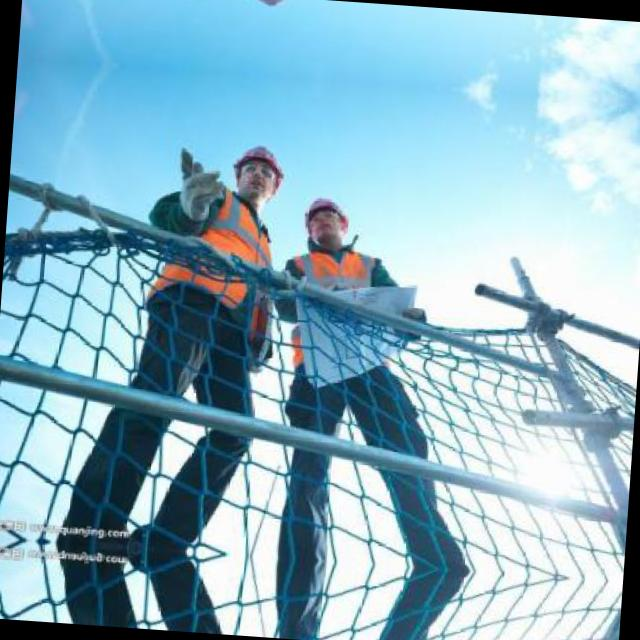helmet: (224, 129, 289, 209), (296, 188, 354, 252), (236, 0, 299, 22)
